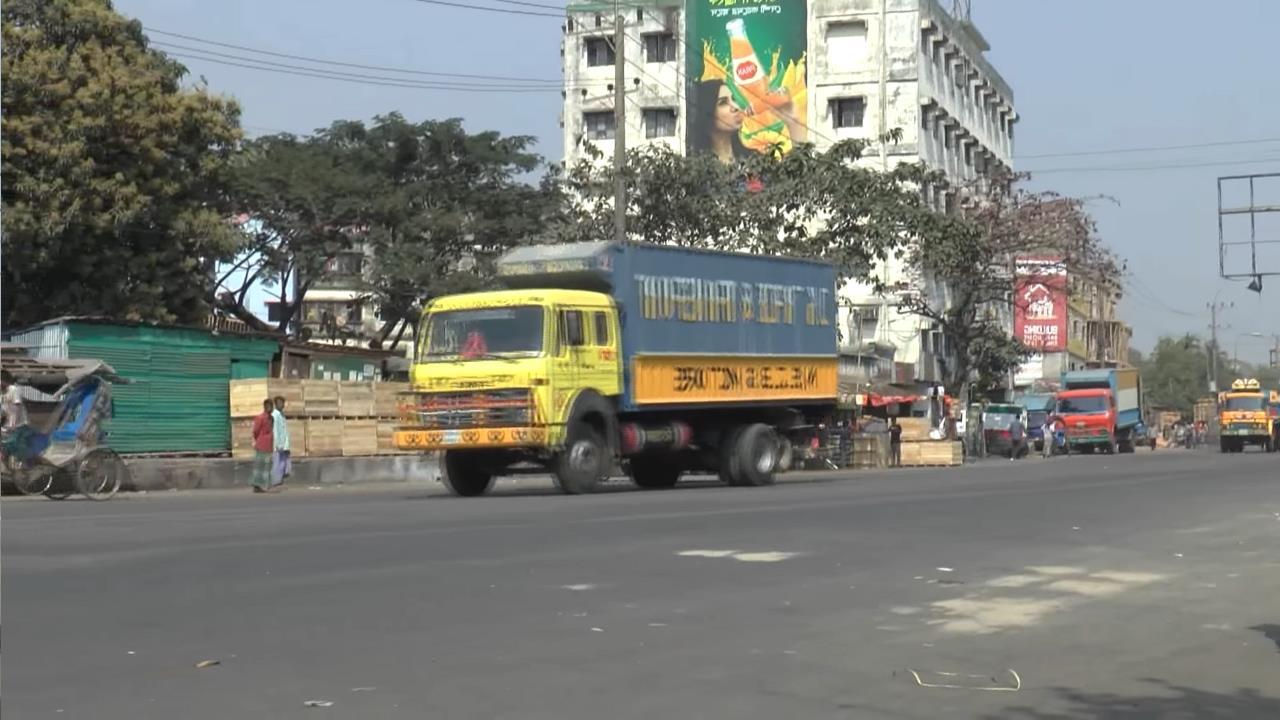rickshaw: (7, 368, 130, 495)
truck: (407, 244, 846, 494), (1062, 364, 1145, 456), (1216, 381, 1280, 443)
